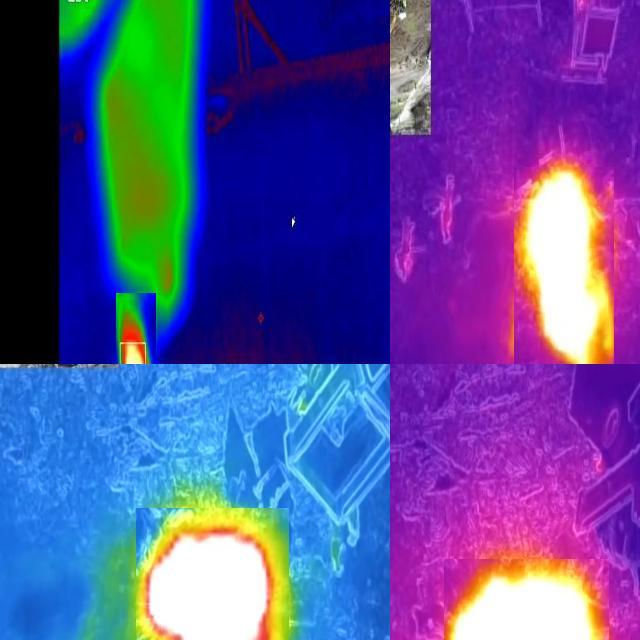fire: (137, 509, 290, 640), (515, 168, 615, 365), (445, 559, 610, 640), (117, 294, 157, 365)
